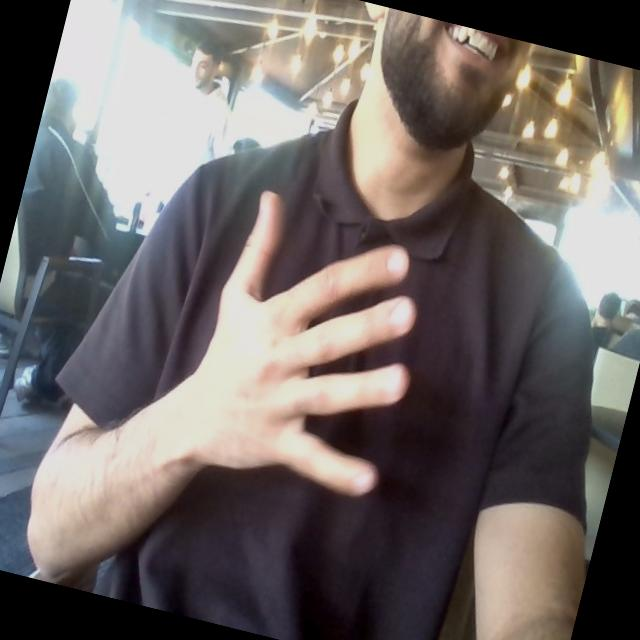Hand: (172, 192, 415, 495)
